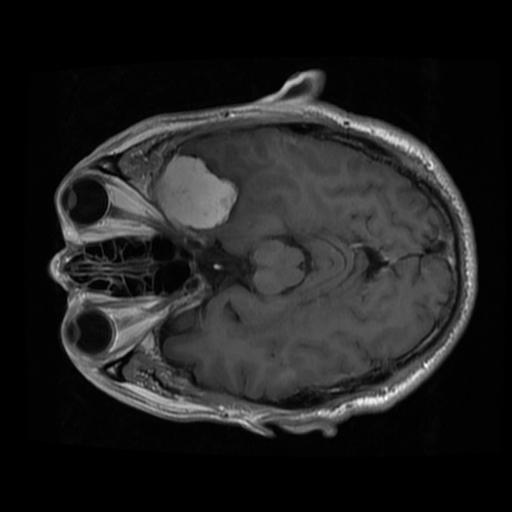meningioma: (153, 154, 237, 229)
